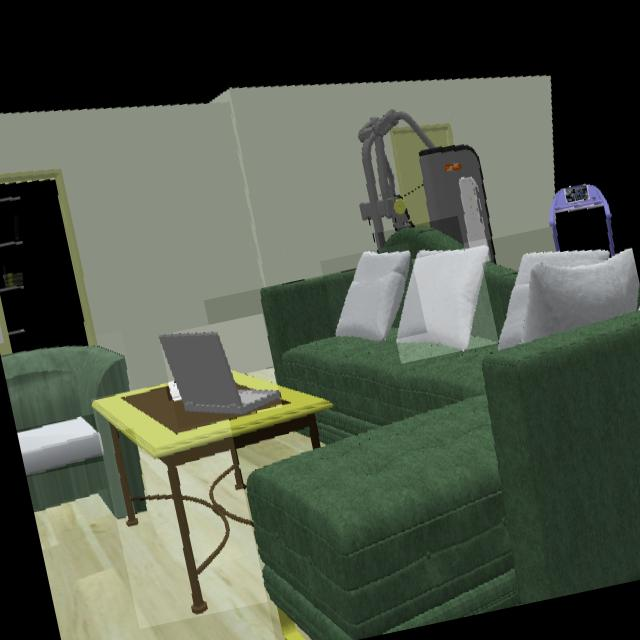book: (166, 382, 178, 399)
laptop: (159, 332, 281, 417)
pillow: (498, 247, 640, 348), (397, 249, 489, 350), (336, 252, 410, 342), (17, 416, 105, 477)
sofa: (246, 263, 640, 640), (1, 345, 129, 517), (382, 228, 464, 254), (118, 431, 144, 499), (134, 500, 147, 514)
table: (91, 371, 334, 615)
